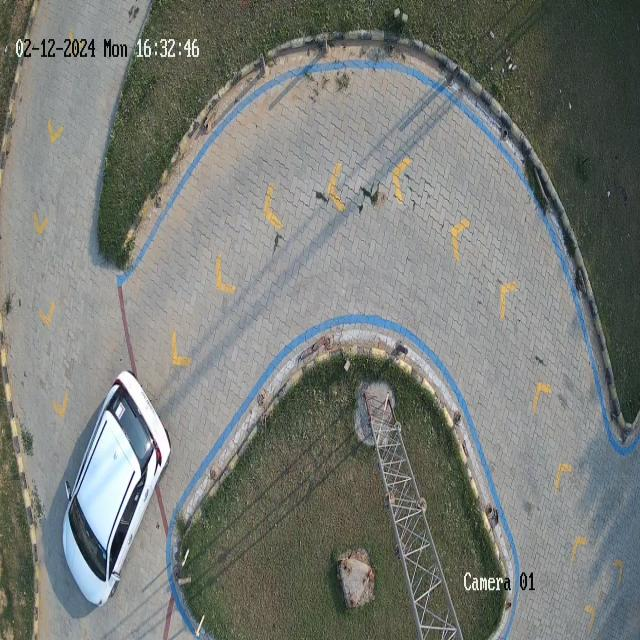car: (62, 373, 170, 604)
